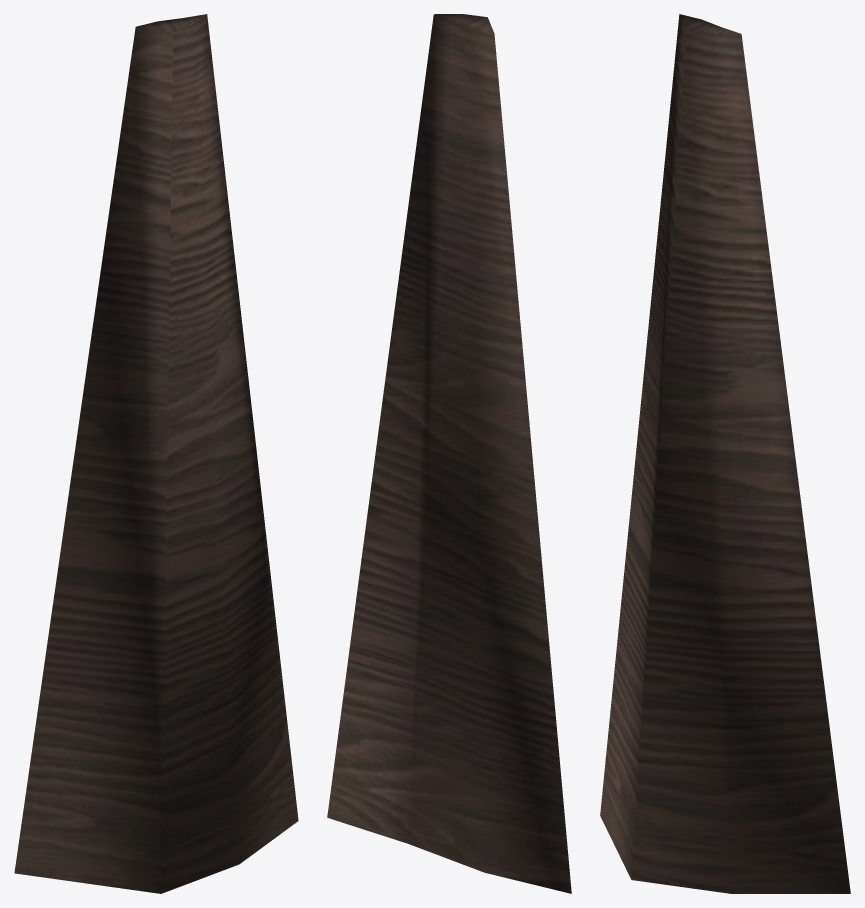
Rendered from chip.glb.
3 views of the same model, side by side, from view 1: azimuth 30°, elevation 25°; view 2: azimuth 150°, elevation 25°; view 3: azimuth 330°, elevation 25° (orthographic). The views are drawn at different scales.
Parts seen in each view (by area): view 1: chip; view 2: chip; view 3: chip.
Boxes of the visible parts, box(x1,y1,x2,y2) form: chip: box(14, 14, 298, 893); chip: box(327, 14, 571, 893); chip: box(600, 14, 850, 893).
Bounding box in the file's own units: 0.008 × 0.024 × 0.003.
1 material, 1 textured.
